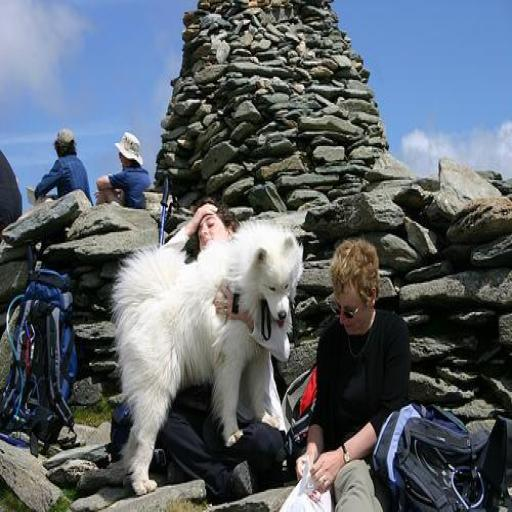dog_face: (232, 226, 302, 329)
